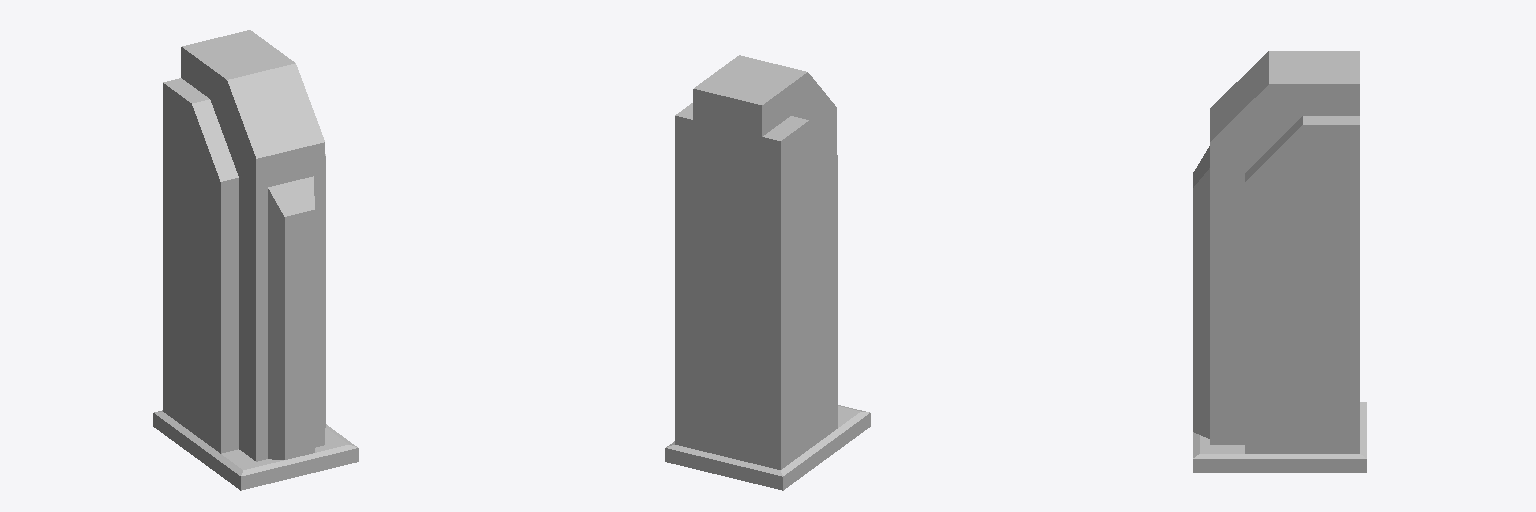
Rendered from pillar.obj.
3 views of the same model, side by side, from view 1: azimuth 30°, elevation 25°; view 2: azimuth 150°, elevation 25°; view 3: azimuth 270°, elevation 25° (orthographic).
Parts seen in each view (by area): view 1: Cube.010; view 2: Cube.010; view 3: Cube.010.
Part boxes in pixels (bbox=[...]): Cube.010: bbox=[153, 30, 358, 490]; Cube.010: bbox=[665, 55, 870, 490]; Cube.010: bbox=[1193, 51, 1366, 472].
Size of the model in its own units: 7 by 21.41 by 9.